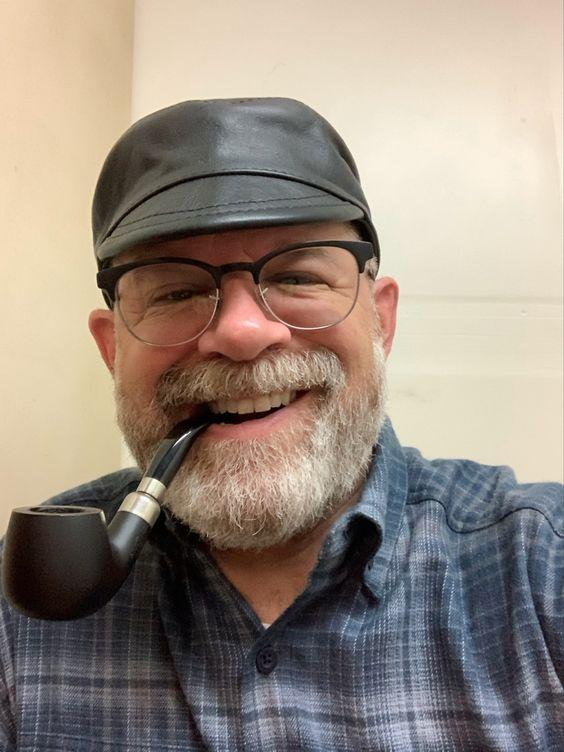trubka: (2, 423, 207, 620)
